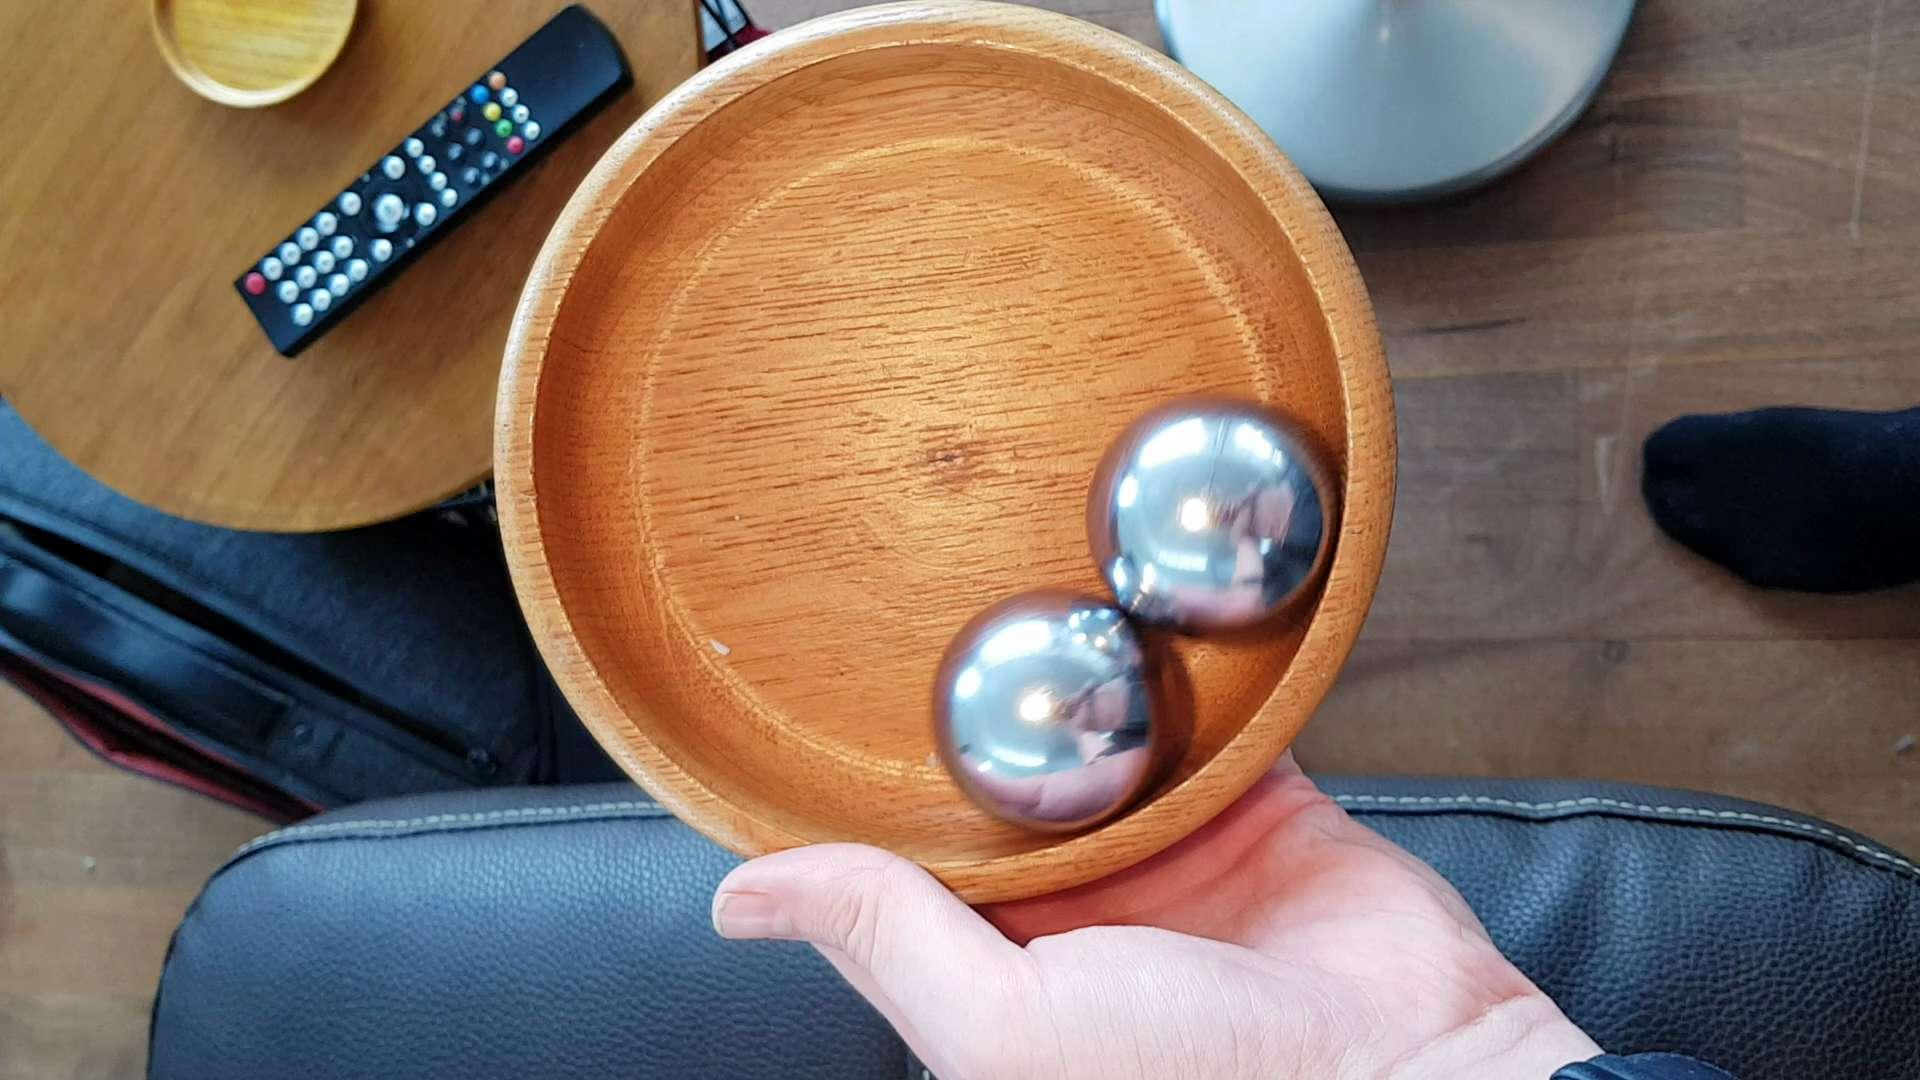sphere: (920, 576, 1203, 833), (1079, 389, 1328, 638)
